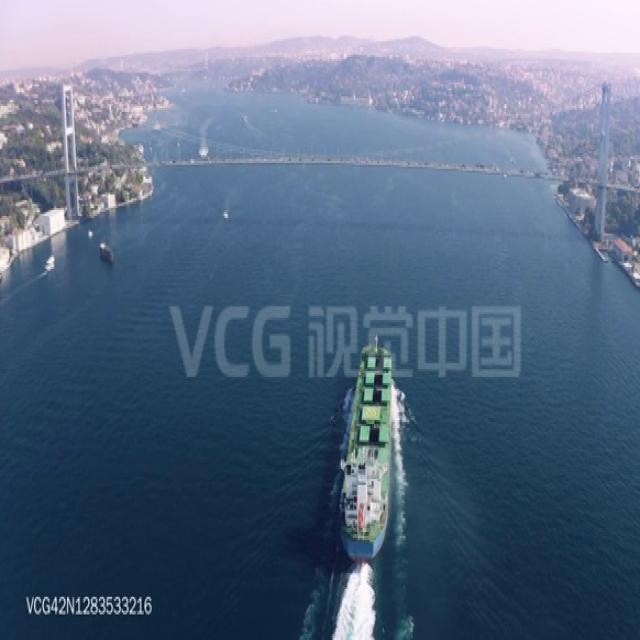cargoship: (338, 333, 398, 563)
